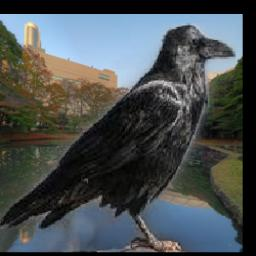Crow: (0, 23, 234, 252)
